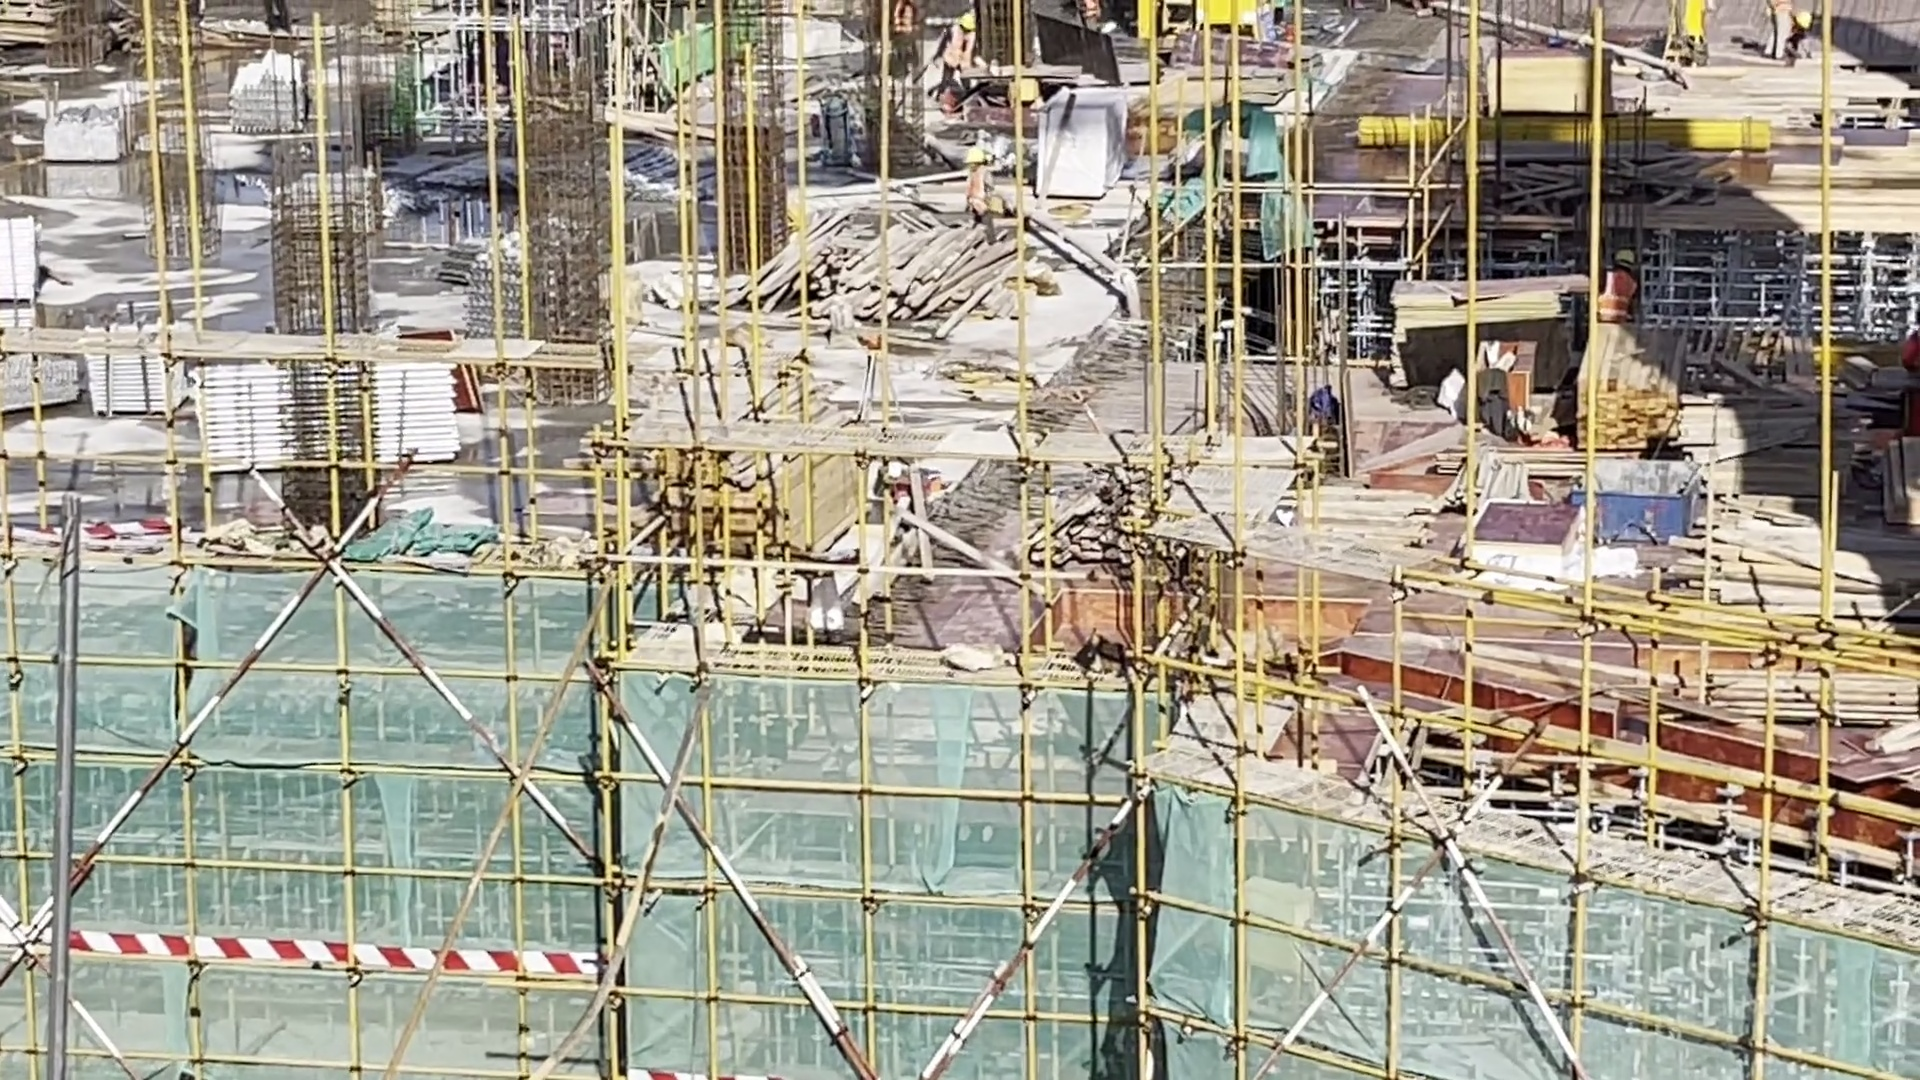board: (1695, 490, 1920, 648)
helmet: (883, 454, 906, 484), (963, 143, 990, 159), (1613, 251, 1635, 271)
hopper: (1571, 455, 1715, 555)
person: (919, 7, 983, 93), (1594, 242, 1649, 330), (957, 134, 999, 220)
scaffold: (184, 364, 456, 467), (75, 300, 175, 418), (230, 44, 322, 119), (3, 226, 58, 304)
vest: (1597, 269, 1633, 320), (961, 168, 991, 205)
wood: (693, 196, 1044, 359), (623, 452, 852, 545), (1688, 652, 1920, 743), (1559, 327, 1700, 461)
